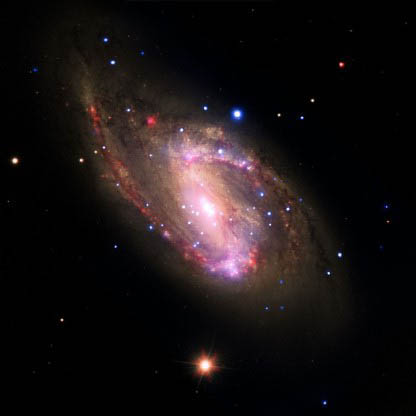Messier 66: (59, 42, 346, 386)
